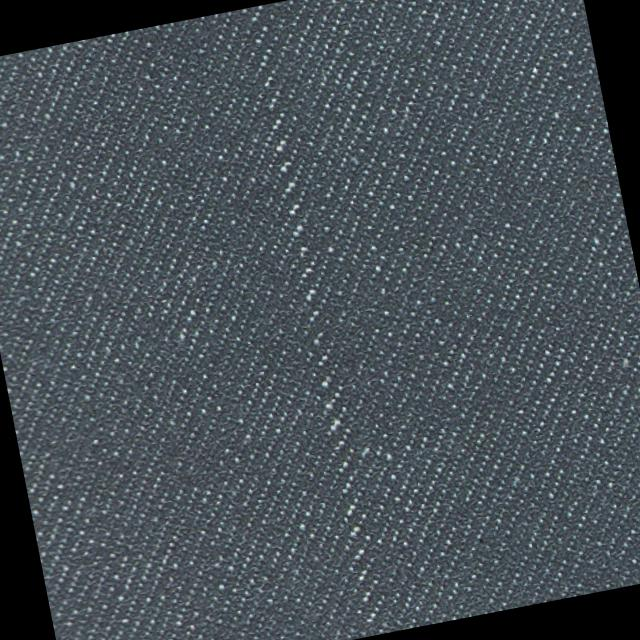Warp_Weft: (238, 3, 393, 634)
